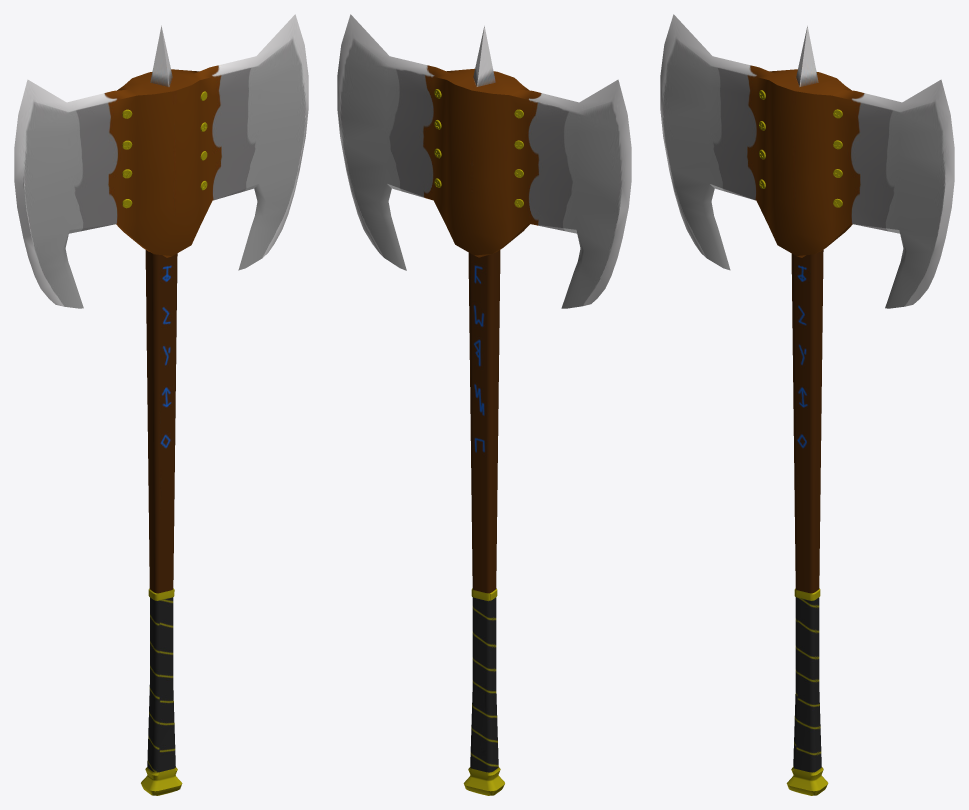
File: HacheDouble.fbx
The picture shows the model from 3 angles, left to right: view 1: azimuth 30°, elevation 25°; view 2: azimuth 150°, elevation 25°; view 3: azimuth 330°, elevation 25°; orthographic projection.
Parts seen in each view (by area): view 1: pCylinder19; view 2: pCylinder19; view 3: pCylinder19.
Part boxes in pixels (x1,y1,x2,y2): pCylinder19: [14, 14, 308, 795]; pCylinder19: [337, 14, 631, 795]; pCylinder19: [660, 14, 954, 795].
Bounding box in the file's own units: 0.247 × 0.615 × 0.0401.
